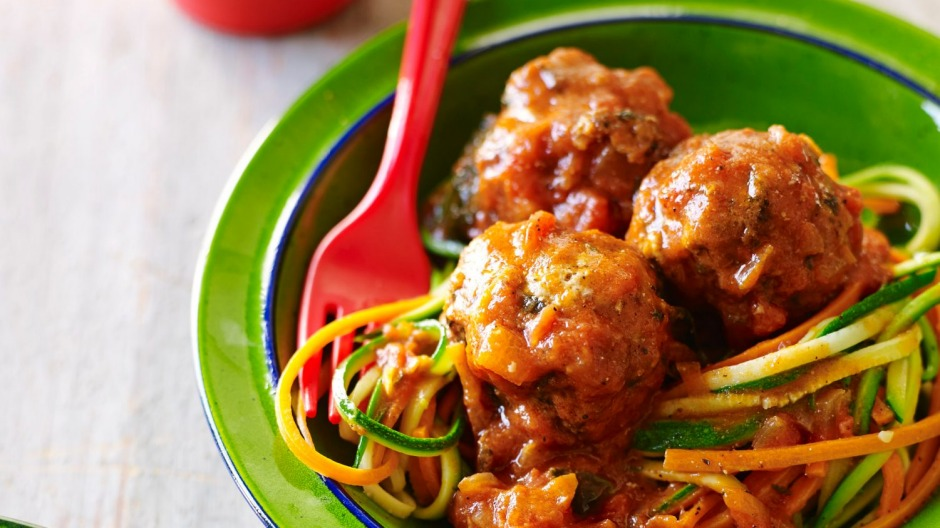meatballs: (452, 214, 667, 442), (644, 118, 858, 331), (447, 46, 685, 231)
